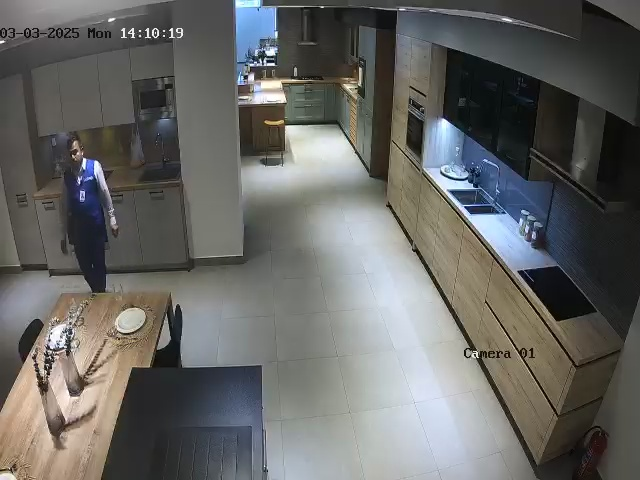employee: (60, 137, 119, 293)
